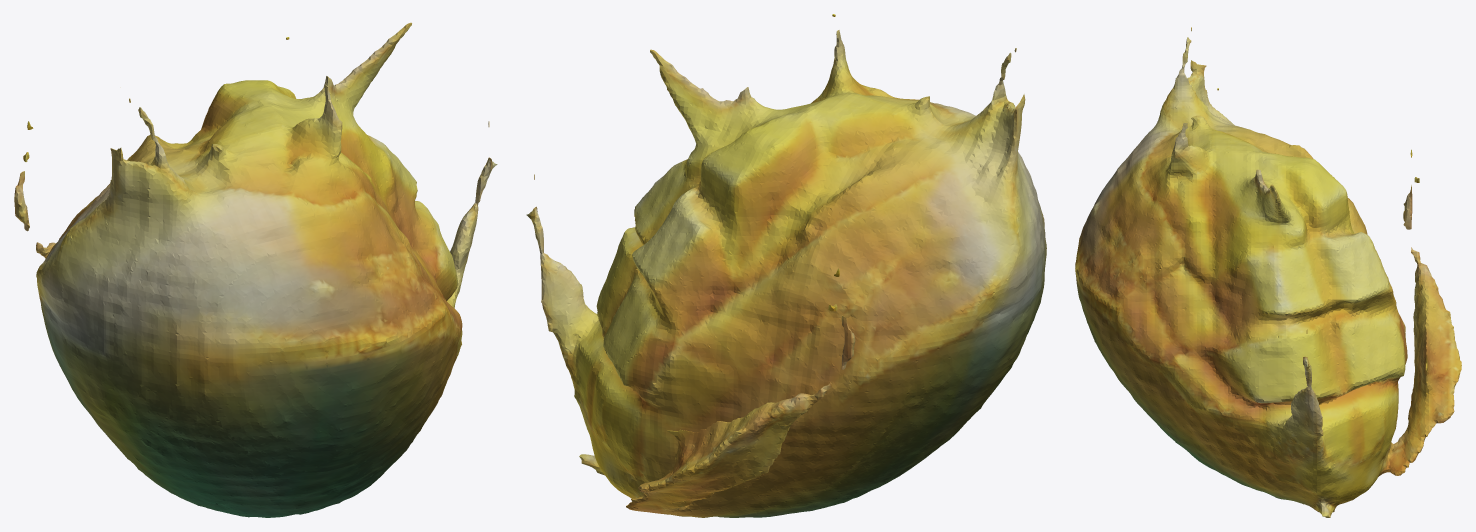
Rendered from mango.glb.
3 renders of one model, left to right at view 1: azimuth 30°, elevation 25°; view 2: azimuth 150°, elevation 25°; view 3: azimuth 270°, elevation 25°, orthographic. The views are drawn at different scales.
Visible parts, largest first — view 1: world; view 2: world; view 3: world.
Boxes of the visible parts, x1,y1,x2,y2 form: world: [14, 22, 497, 517]; world: [526, 14, 1046, 517]; world: [1075, 27, 1461, 517].
Size of the model in its own units: 1.81 by 1.79 by 1.64.
